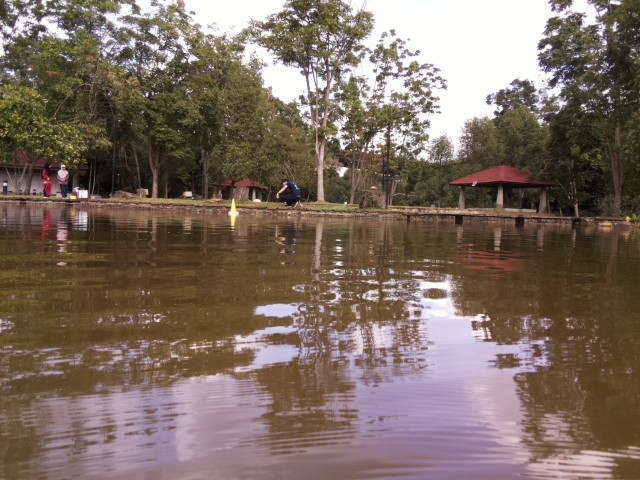checkpoint: (227, 198, 240, 216)
